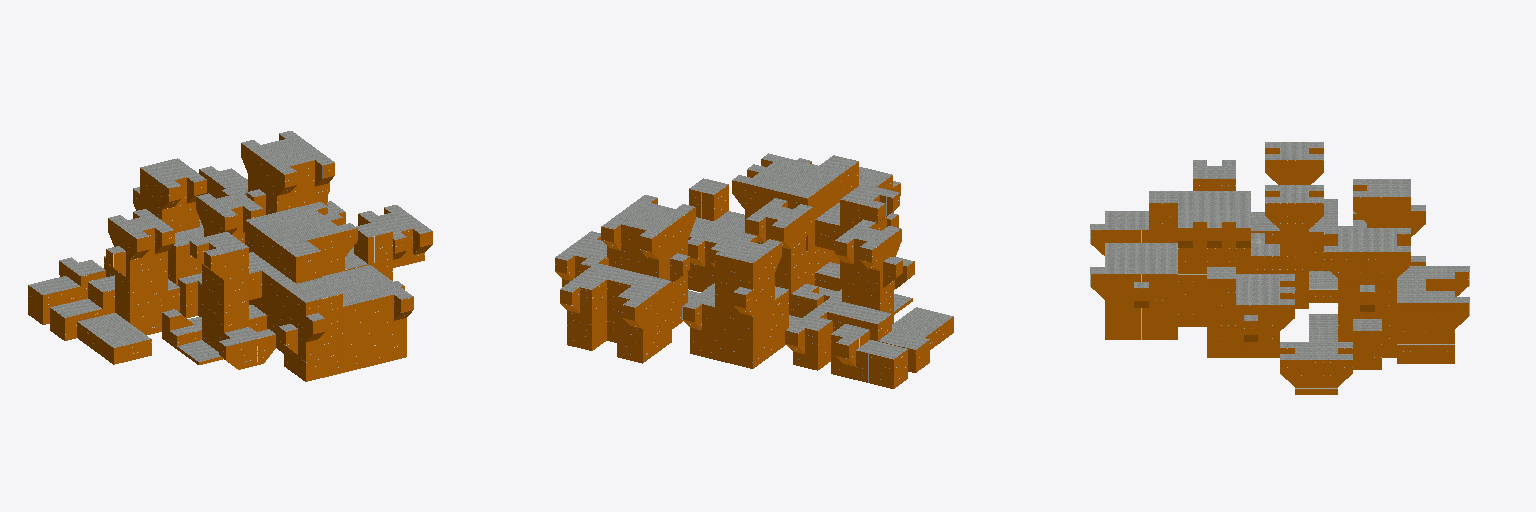
3 renders of one model, left to right at view 1: azimuth 30°, elevation 25°; view 2: azimuth 150°, elevation 25°; view 3: azimuth 270°, elevation 25°, orthographic.
Parts seen in each view (by area): view 1: 67; view 2: 67; view 3: 67.
Boxes of the visible parts, x1=… form: 67: x1=28, y1=131, x2=432, y2=381; 67: x1=555, y1=153, x2=953, y2=388; 67: x1=1090, y1=142, x2=1469, y2=394.
Bounding box in the file's own units: 717 × 205 × 666.
3 materials, 3 textured.